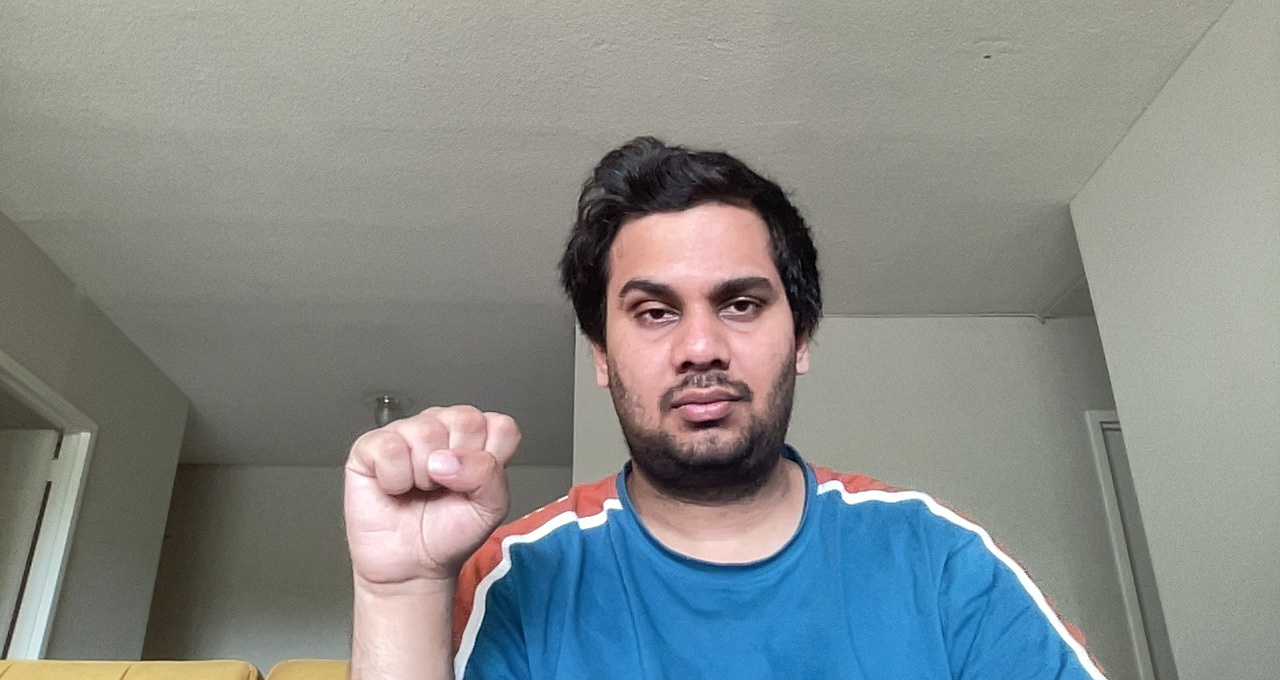closedfist: (333, 398, 529, 593)
